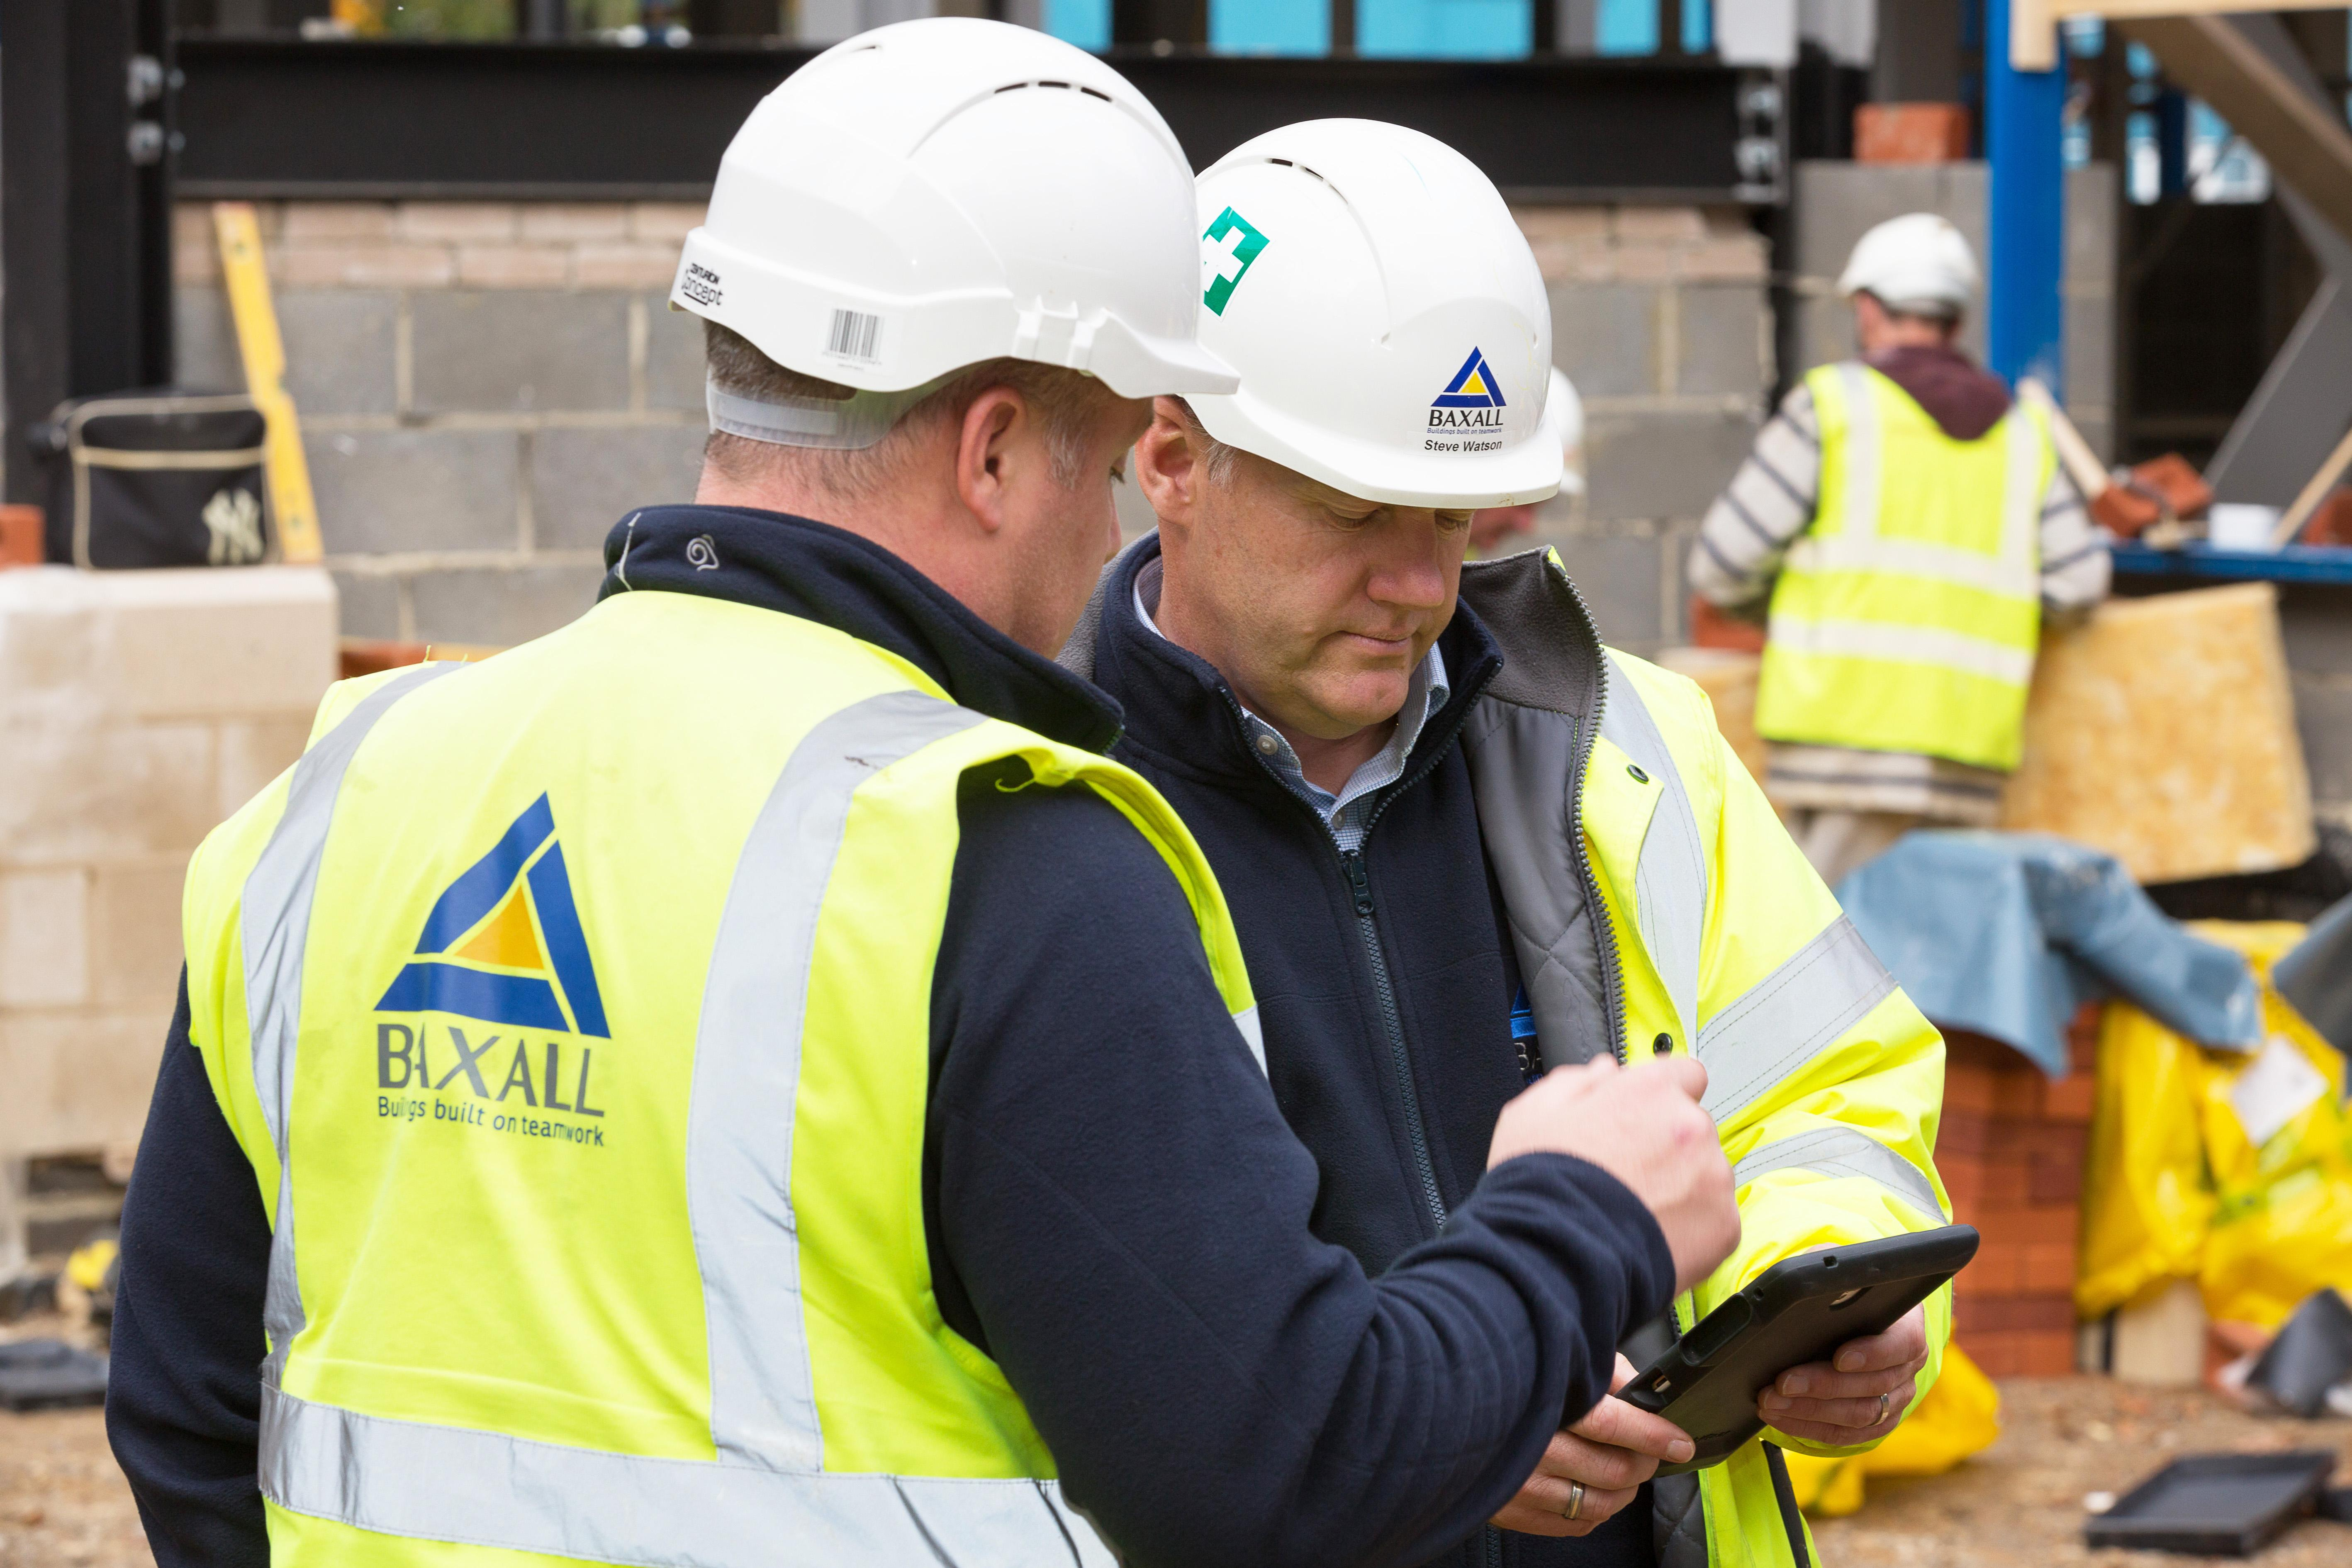helmet: (668, 9, 1230, 394), (1158, 119, 1575, 499), (1830, 210, 1981, 315)
